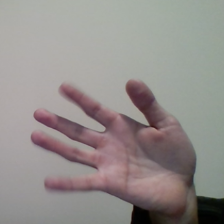left: (24, 73, 210, 217)
